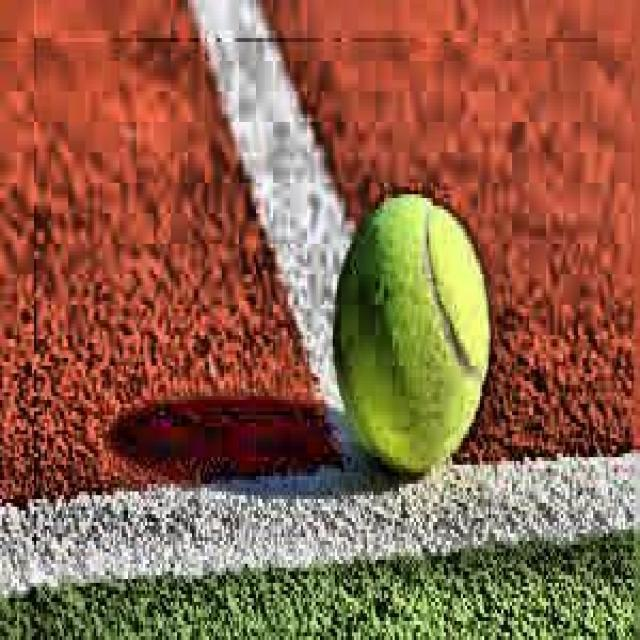tennis-ball: (331, 179, 497, 488)
